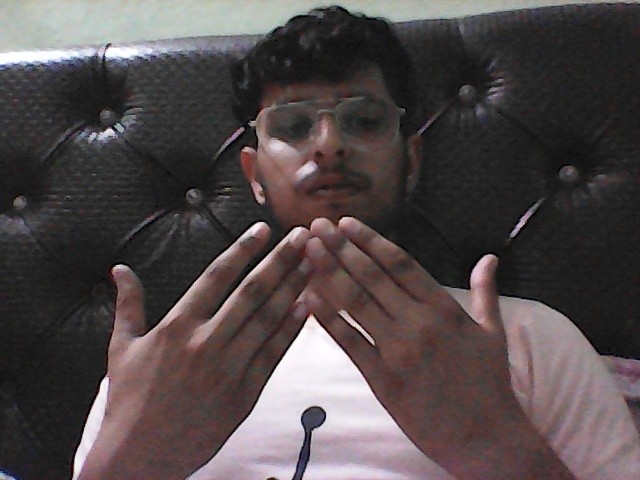thankyou: (80, 213, 536, 480)
